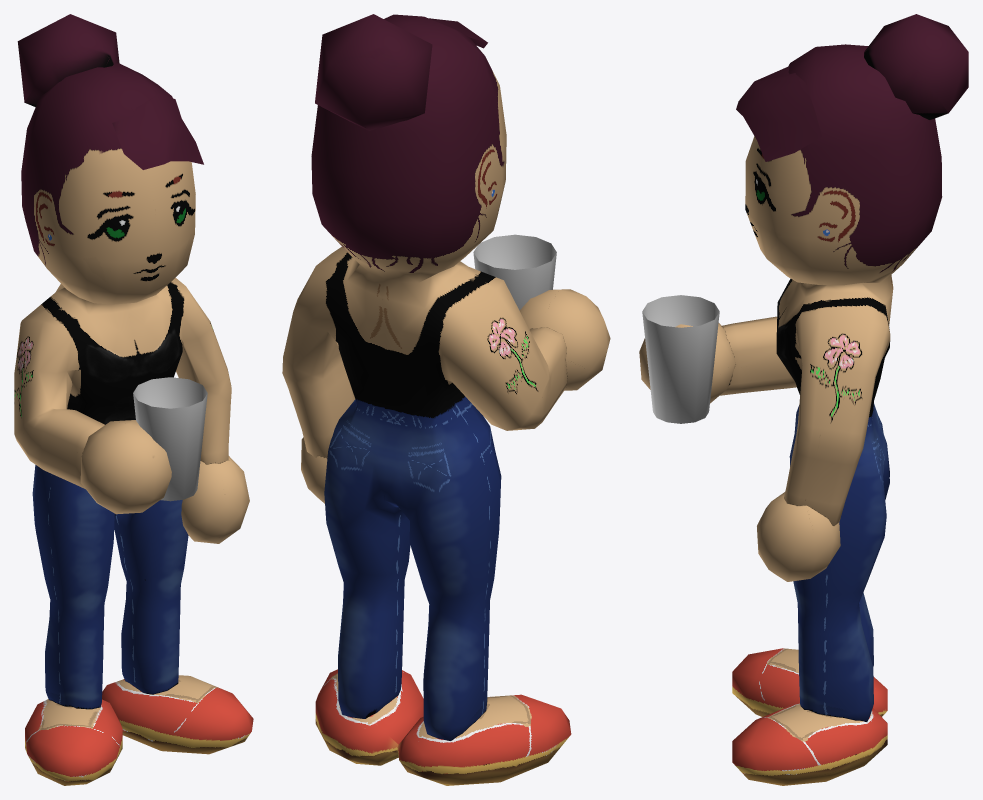
The model's file is fille hipster 1.fbx.
3 renders of one model, left to right at view 1: azimuth 30°, elevation 25°; view 2: azimuth 150°, elevation 25°; view 3: azimuth 270°, elevation 25°, orthographic. The views are drawn at different scales.
Visible parts, largest first — view 1: Plane, gobelet; view 2: Plane, gobelet; view 3: Plane, gobelet.
Part boxes in pixels (box(x1,y1,x2,y2)): Plane: box(14, 14, 253, 785); gobelet: box(133, 377, 207, 501); Plane: box(282, 14, 610, 785); gobelet: box(473, 234, 556, 310); Plane: box(639, 14, 968, 785); gobelet: box(642, 295, 719, 423).
Bounding box in the file's own units: 288 × 894 × 363.
2 materials, 1 textured.
